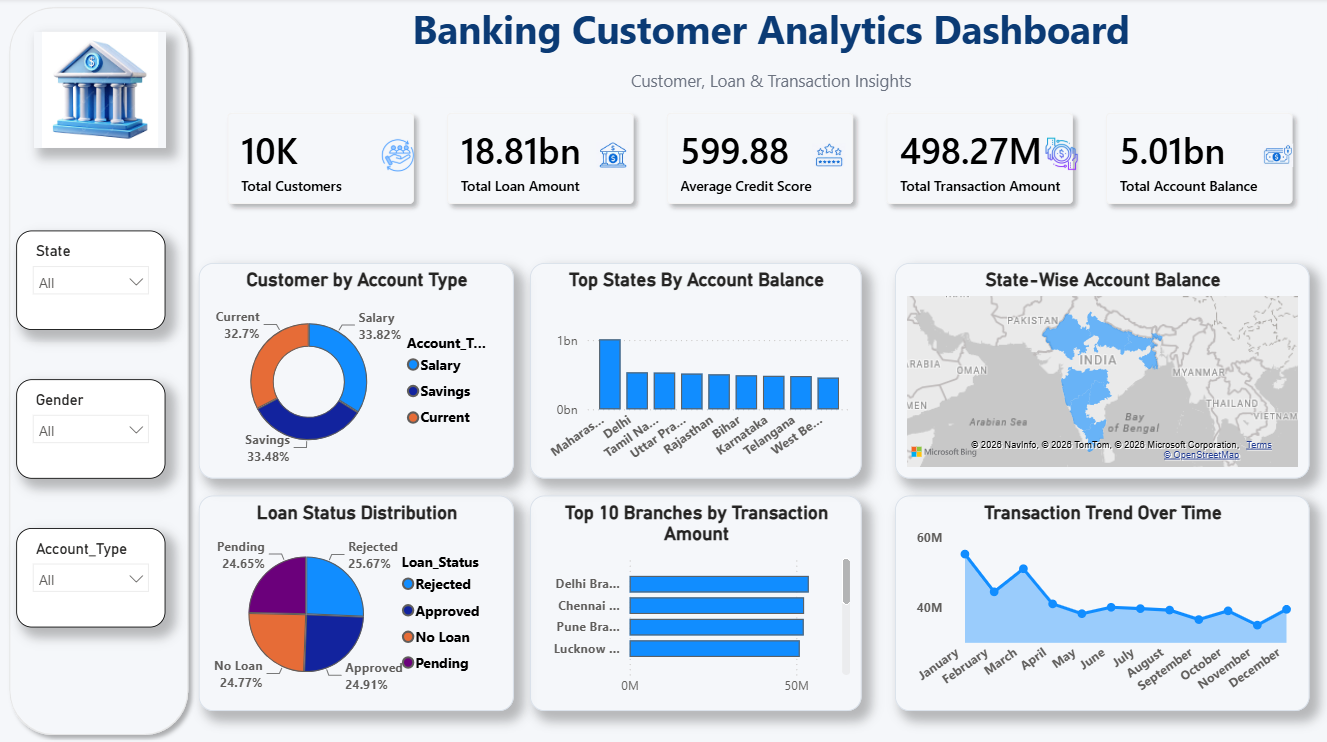

Layout of this report page (visuals, bound fields, positions):
{"tool":"powerbi","page":{"name":"Page 1","canvas":[1280,720],"ordinal":0},"visuals":[{"type":"textbox","box":[352,0,784,64],"z":0},{"type":"shape","box":[0,0,190.7,720.4],"z":1000},{"type":"cardVisual","fields":{"Data":["Banking_Dataset.Total Customers","Banking_Dataset.Total Loan Amount","Banking_Dataset.Average Credit Score","Banking_Dataset.Total Transaction Amount","Banking_Dataset.Total Account Balance"]},"box":[190.1,81.7,1090.1,146.5],"z":2000},{"type":"donutChart","title":"Customer by Account Type","fields":{"Category":["Banking_Dataset.Account_Type"],"Y":["CountNonNull(Banking_Dataset.Customer_ID)"]},"box":[192,256,304,208],"z":3000},{"type":"clusteredColumnChart","title":"Top States By Account Balance","fields":{"Category":["Banking_Dataset.State"],"Y":["Sum(Banking_Dataset.Account_Balance)"]},"box":[512,256,320,208],"z":4000},{"type":"pieChart","title":"Loan Status Distribution","fields":{"Y":["CountNonNull(Banking_Dataset.Customer_ID)"],"Category":["Banking_Dataset.Loan_Status"]},"box":[192,480,304,208],"z":5000},{"type":"clusteredBarChart","title":"Top 10 Branches by Transaction Amount","fields":{"Category":["Banking_Dataset.Branch_Name"],"Y":["Sum(Banking_Dataset.Transaction_Amount)"]},"box":[512,480,320,208],"z":6000},{"type":"slicer","fields":{"Values":["Banking_Dataset.State"]},"box":[16,224,144,96],"z":7000},{"type":"slicer","fields":{"Values":["Banking_Dataset.Account_Type"]},"box":[16,512,144,96],"z":8000},{"type":"slicer","fields":{"Values":["Banking_Dataset.Gender"]},"box":[16,368,144,96],"z":9000},{"type":"image","box":[32,32,128,112],"z":10000},{"type":"image","box":[368,128,32,48],"z":11000},{"type":"image","box":[1008,128,32,45],"z":12000},{"type":"lineChart","title":"Transaction Trend Over Time ","fields":{"Category":["Banking_Dataset.Transaction_Date.Variation.Date Hierarchy.Month"],"Y":["Sum(Banking_Dataset.Transaction_Amount)"]},"box":[864,480,400,208],"z":13000},{"type":"filledMap","title":"State-Wise Account Balance","fields":{"Category":["Banking_Dataset.State"]},"box":[864,256,400,208],"z":14000},{"type":"image","box":[1216,128,32,48],"z":15000},{"type":"image","box":[784,128,32,48],"z":16000},{"type":"image","box":[576,128,32,48],"z":17000},{"type":"textbox","box":[416,64,656,32],"z":18000}]}

Visuals, with their boxes in screenshot pixels (x1, y1, x2, y2), scaled from the page's 1280x720 canvas onto the 1327x742 screenshot:
textbox: select_region(365, 0, 1178, 66)
shape: select_region(0, 0, 198, 741)
cardVisual - Banking_Dataset.Total Customers x Banking_Dataset.Total Loan Amount: select_region(197, 84, 1326, 235)
"Customer by Account Type" donutChart: select_region(199, 264, 514, 478)
"Top States By Account Balance" clusteredColumnChart: select_region(531, 264, 863, 478)
"Loan Status Distribution" pieChart: select_region(199, 495, 514, 709)
"Top 10 Branches by Transaction Amount" clusteredBarChart: select_region(531, 495, 863, 709)
slicer - Banking_Dataset.State: select_region(17, 231, 166, 330)
slicer - Banking_Dataset.Account_Type: select_region(17, 528, 166, 627)
slicer - Banking_Dataset.Gender: select_region(17, 379, 166, 478)
image: select_region(33, 33, 166, 148)
image: select_region(382, 132, 415, 181)
image: select_region(1045, 132, 1078, 178)
"Transaction Trend Over Time " lineChart: select_region(896, 495, 1310, 709)
"State-Wise Account Balance" filledMap: select_region(896, 264, 1310, 478)
image: select_region(1261, 132, 1294, 181)
image: select_region(813, 132, 846, 181)
image: select_region(597, 132, 630, 181)
textbox: select_region(431, 66, 1111, 99)
